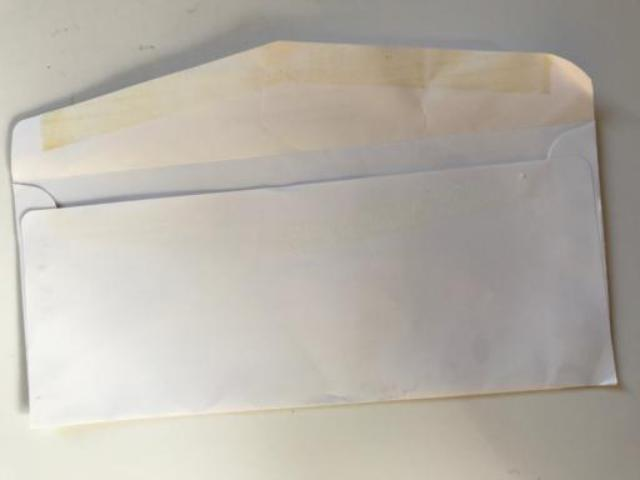cardboard paper: (10, 40, 614, 424)
